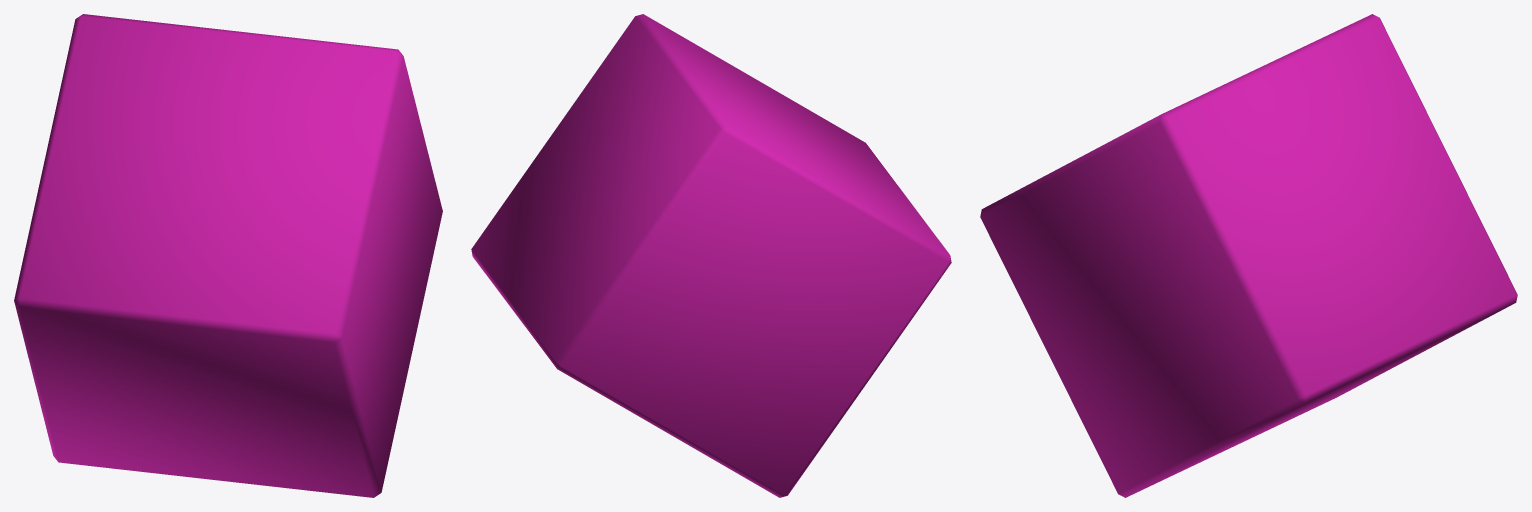
File: jumping_cube_7.obj
The picture shows the model from 3 angles, left to right: view 1: azimuth 30°, elevation 25°; view 2: azimuth 150°, elevation 25°; view 3: azimuth 270°, elevation 25°; orthographic projection. The views are drawn at different scales.
Parts seen in each view (by area): view 1: Cube; view 2: Cube; view 3: Cube.
Part boxes in pixels (x1,y1,x2,y2): Cube: (14, 14, 442, 497); Cube: (471, 14, 951, 497); Cube: (980, 14, 1517, 497).
Size of what is drawn, in the model's own units: 3.29 by 2.78 by 3.33.
